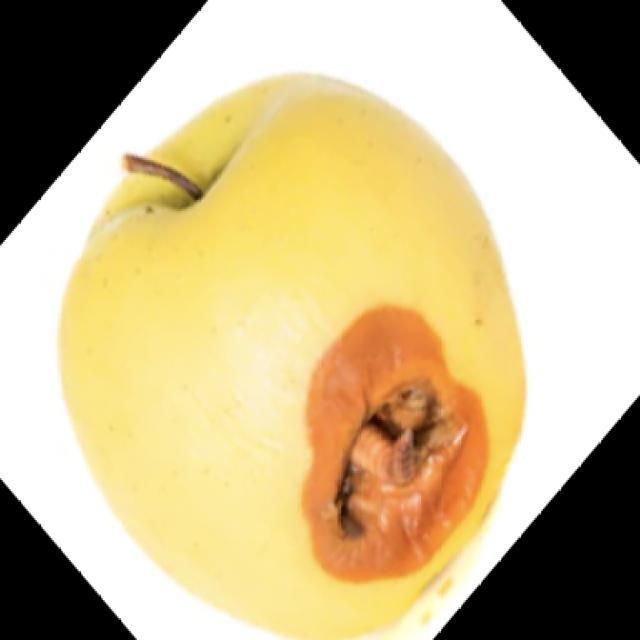Rotten: (89, 91, 548, 606)
